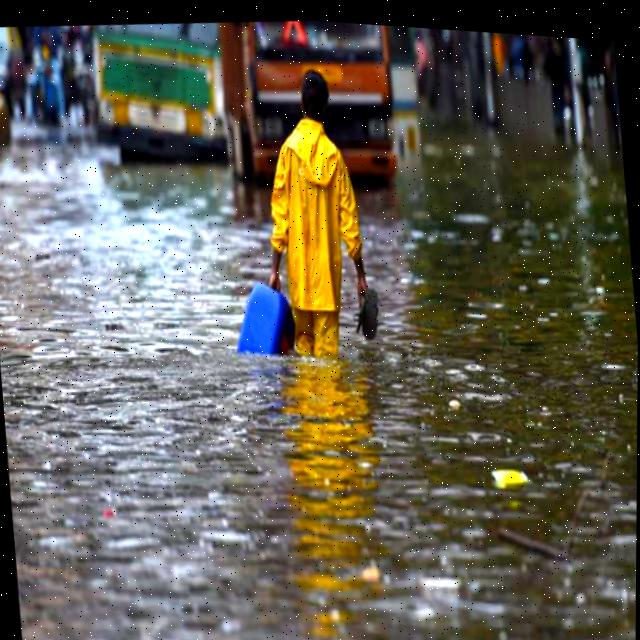civilian: (205, 54, 391, 383)
